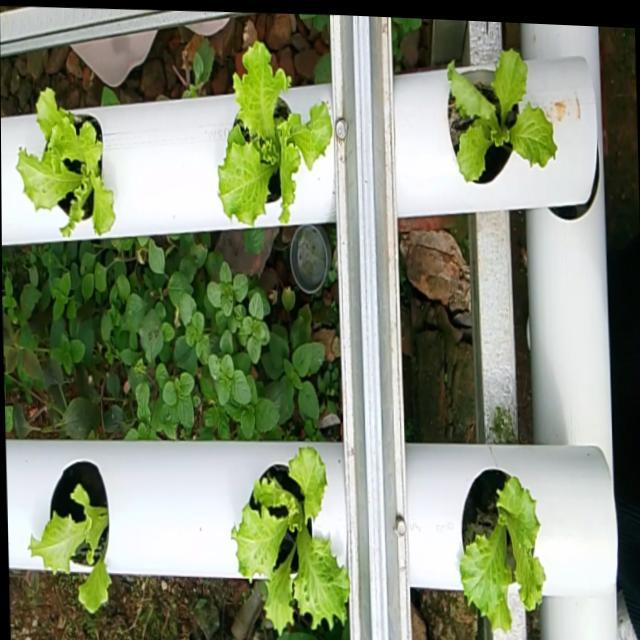Baby: (232, 450, 349, 640), (219, 48, 333, 232), (447, 56, 557, 192), (20, 92, 117, 241), (459, 474, 544, 636), (31, 461, 112, 612)
